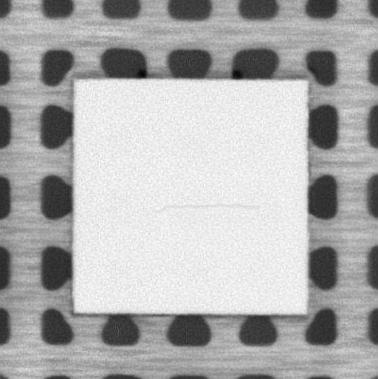DIE_CRACK: (156, 198, 263, 215)
